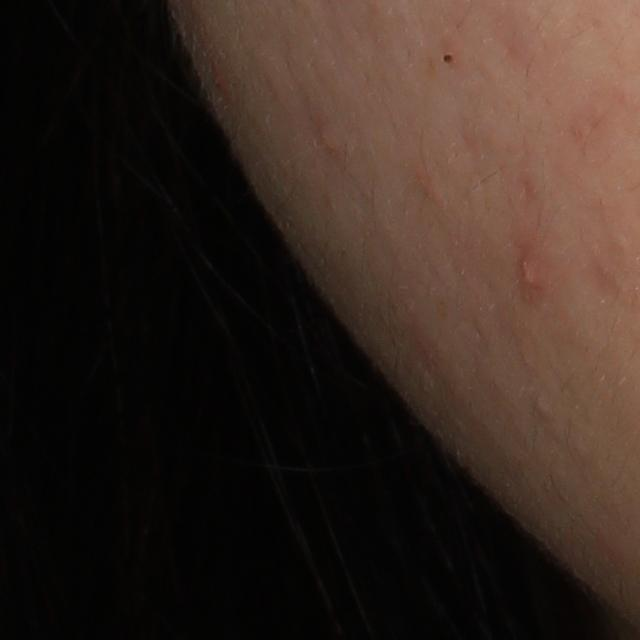comedo: (435, 49, 457, 74)
papule: (514, 249, 547, 300)
